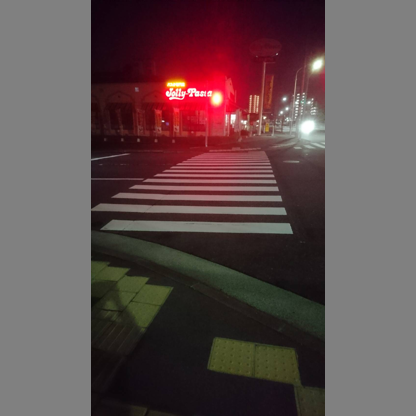brailleblock: (92, 251, 172, 338), (197, 335, 310, 389)
crosswalk: (101, 153, 298, 239)
